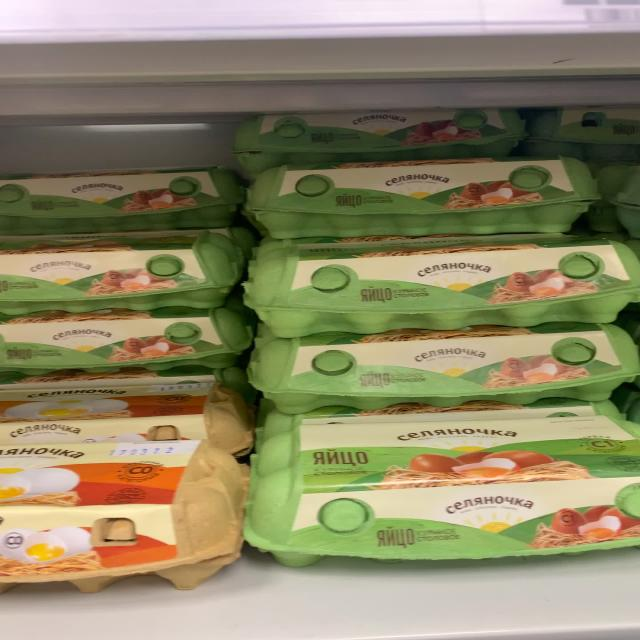egg box: (240, 412, 638, 568), (245, 236, 635, 336), (2, 439, 252, 594), (244, 327, 636, 414), (247, 159, 602, 242), (233, 107, 531, 182), (0, 373, 258, 459), (0, 234, 247, 317), (2, 162, 246, 239), (2, 302, 258, 375)
